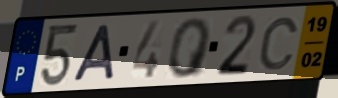2: (216, 13, 259, 78)
4: (130, 19, 161, 82)
5: (39, 23, 80, 88)
A: (70, 23, 116, 84)
C: (256, 15, 301, 73)
Q: (166, 16, 213, 81)
